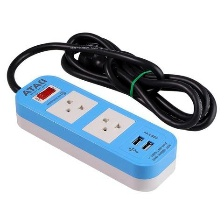three_eye_plug: (11, 71, 179, 197)
